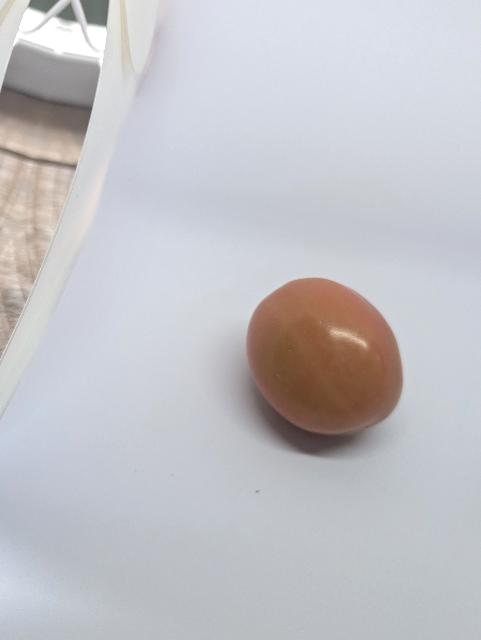turning: (236, 269, 411, 457)
